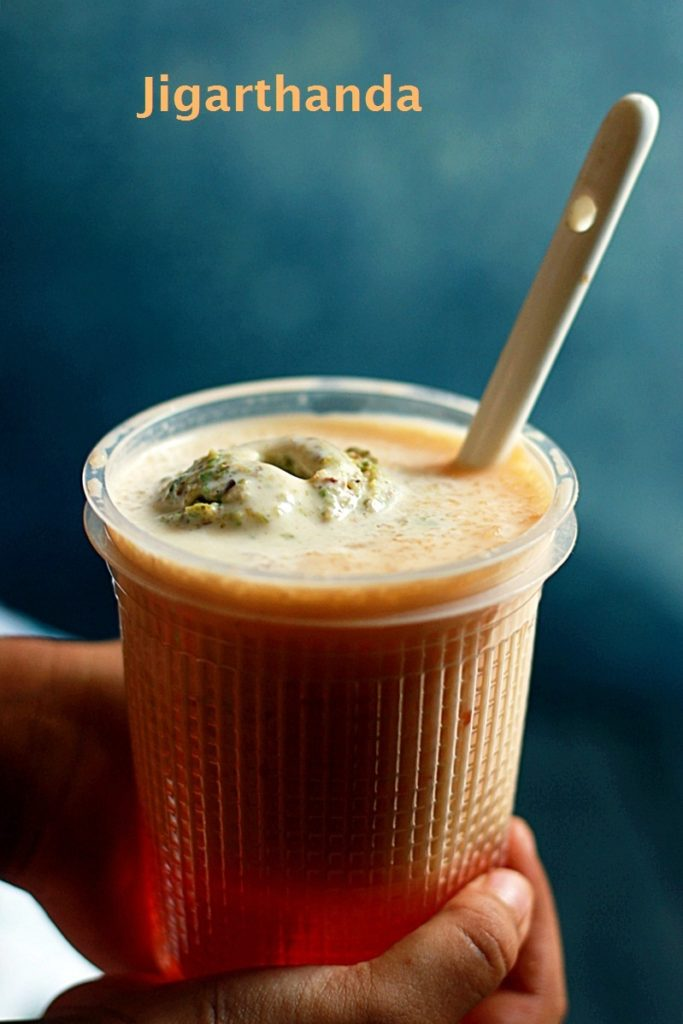jigirthanda: (95, 419, 508, 942)
